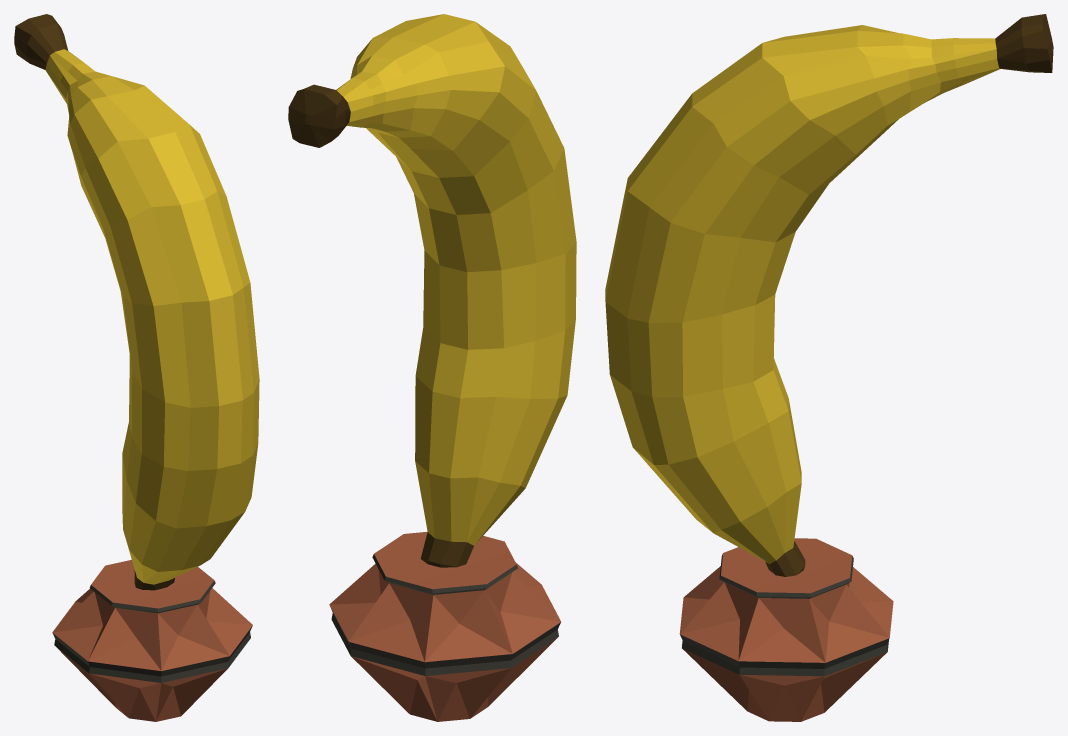
Rendered from Regulobana.fbx.
3 renders of one model, left to right at view 1: azimuth 30°, elevation 25°; view 2: azimuth 150°, elevation 25°; view 3: azimuth 270°, elevation 25°, orthographic. The views are drawn at different scales.
Parts seen in each view (by area): view 1: polySurface3, pCylinder1; view 2: polySurface3, pCylinder1; view 3: polySurface3, pCylinder1.
Boxes of the visible parts, box(x1,y1,x2,y2) form: polySurface3: box(14, 14, 259, 590); pCylinder1: box(52, 559, 252, 721); polySurface3: box(288, 14, 576, 567); pCylinder1: box(329, 531, 560, 721); polySurface3: box(605, 14, 1053, 576); pCylinder1: box(679, 538, 893, 721).
Bounding box in the file's own units: 2.32 × 8.2 × 4.85.
